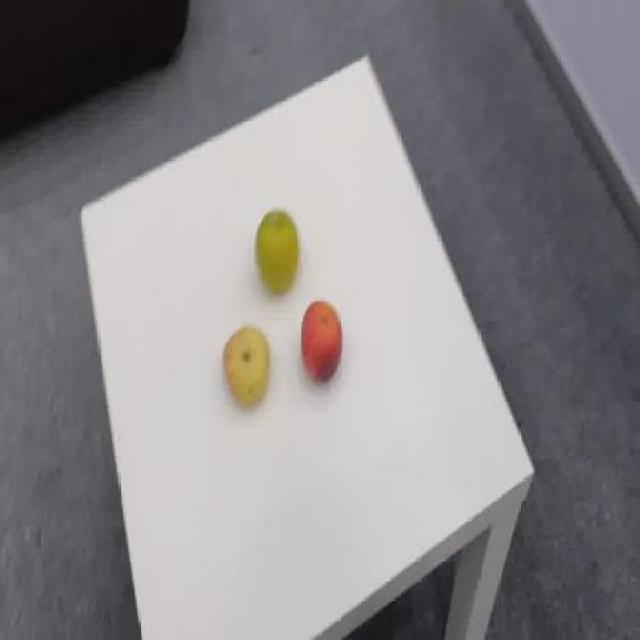Fresh Apple: (250, 208, 304, 294), (224, 326, 274, 411), (297, 301, 341, 383)
